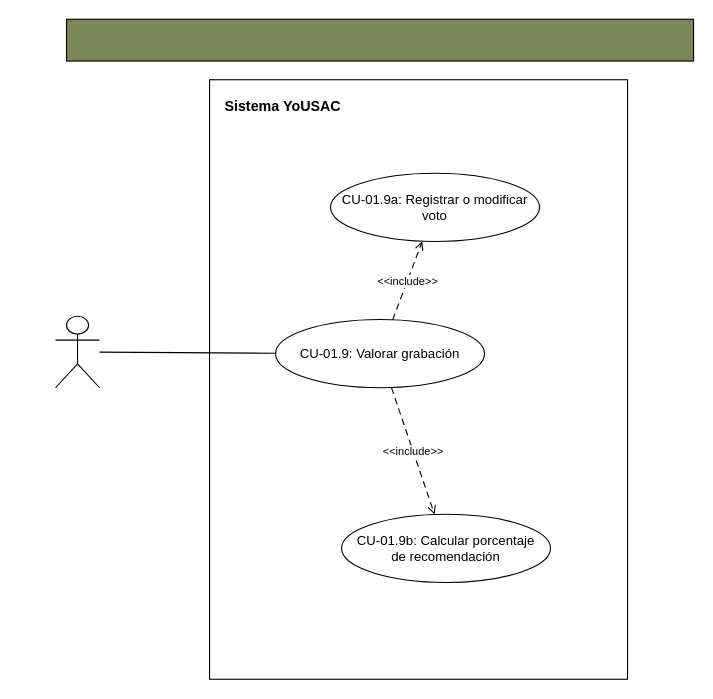
This 713x699 diagram has some shape labels left out. The centre of each missing label's shape, as x and y in pixels:
Plataforma YoUSAC — CU-01.9 — Valorar grabación: [379,39]
Usuario institucional: [77,351]
